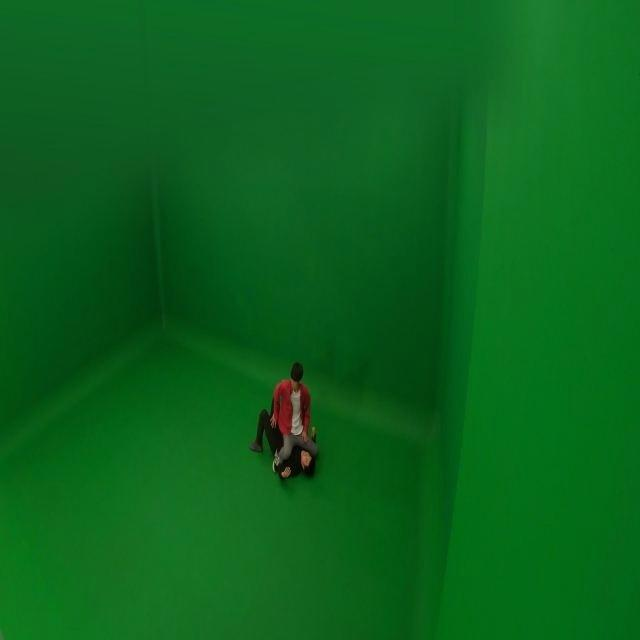fight: (252, 363, 320, 482)
